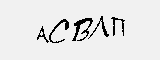А: (35, 24, 48, 44)
В: (72, 15, 93, 45)
Л: (93, 13, 111, 41)
П: (111, 12, 129, 41)
С: (49, 19, 71, 45)
